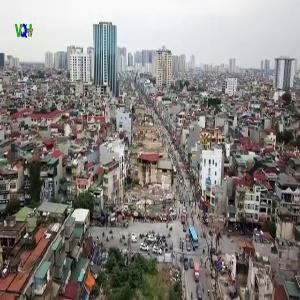drone: (229, 146, 284, 201)
